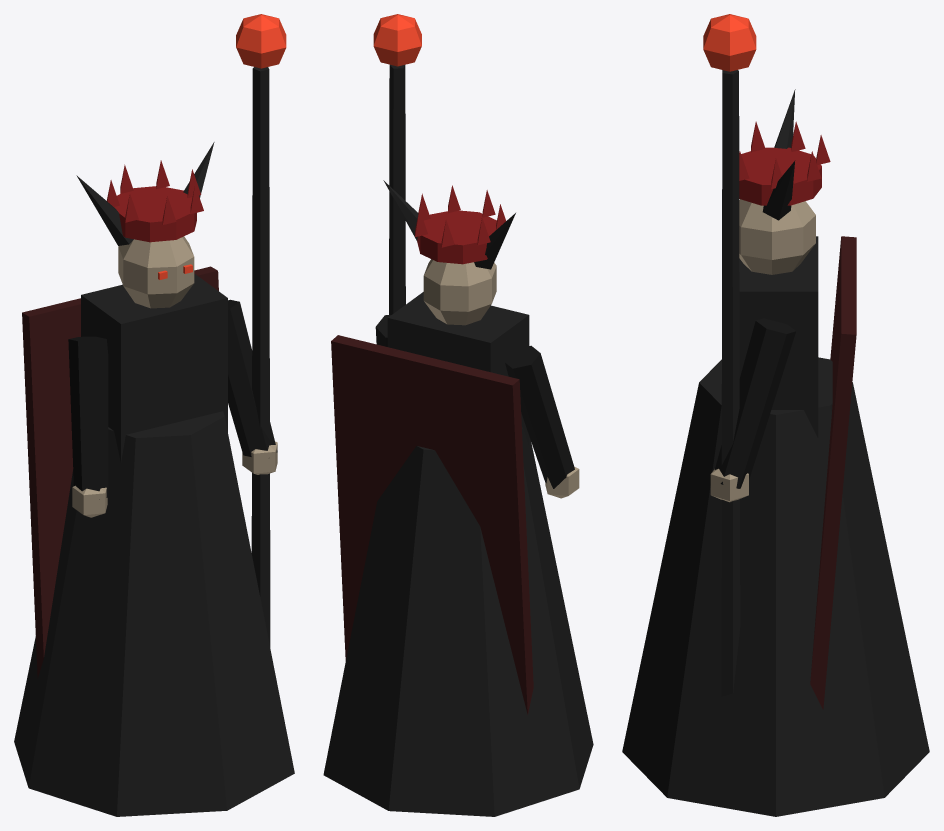
File: brockenhexe.glb
3 views of the same model, side by side, from view 1: azimuth 30°, elevation 25°; view 2: azimuth 150°, elevation 25°; view 3: azimuth 270°, elevation 25° (orthographic). The views are drawn at different scales.
Size of the model in its own units: 0.8 by 2.24 by 0.8.
1 material, 1 textured.
